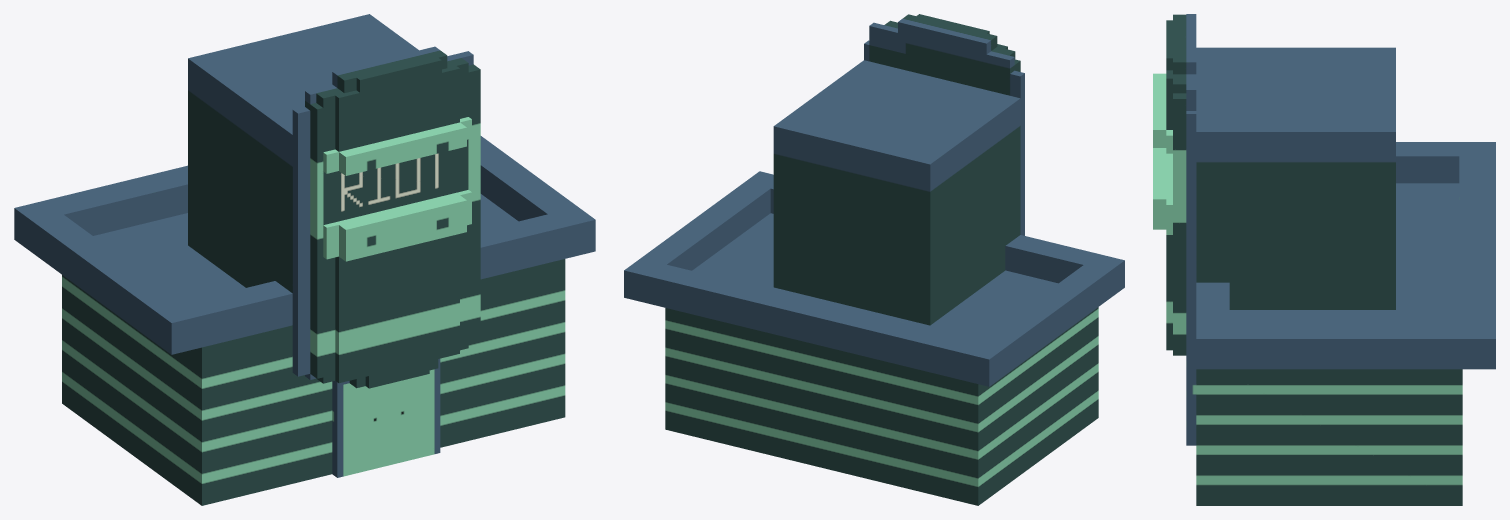
Rendered from ShieldBuilding.fbx.
3 views of the same model, side by side, from view 1: azimuth 30°, elevation 25°; view 2: azimuth 150°, elevation 25°; view 3: azimuth 270°, elevation 25° (orthographic). The views are drawn at different scales.
Visible parts, largest first — view 1: Object; view 2: Object; view 3: Object.
Part boxes in pixels (bbox=[...]): Object: bbox=[14, 14, 595, 505]; Object: bbox=[624, 14, 1124, 505]; Object: bbox=[1153, 14, 1495, 505].
Size of the model in its own units: 140 by 127 by 103.
